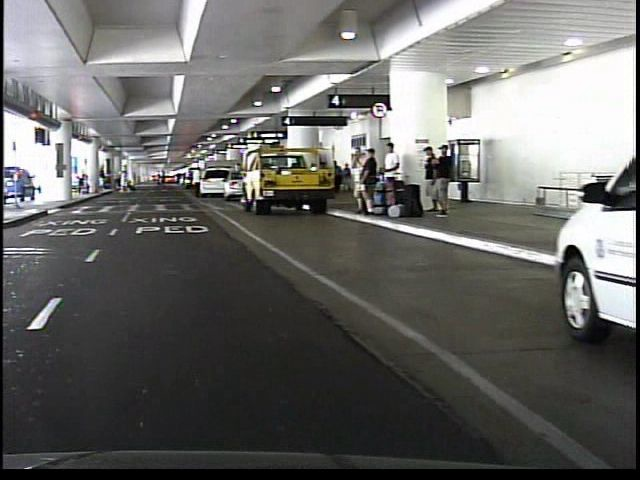person: (344, 143, 363, 213), (431, 144, 449, 217), (110, 162, 126, 196), (187, 165, 197, 197)
